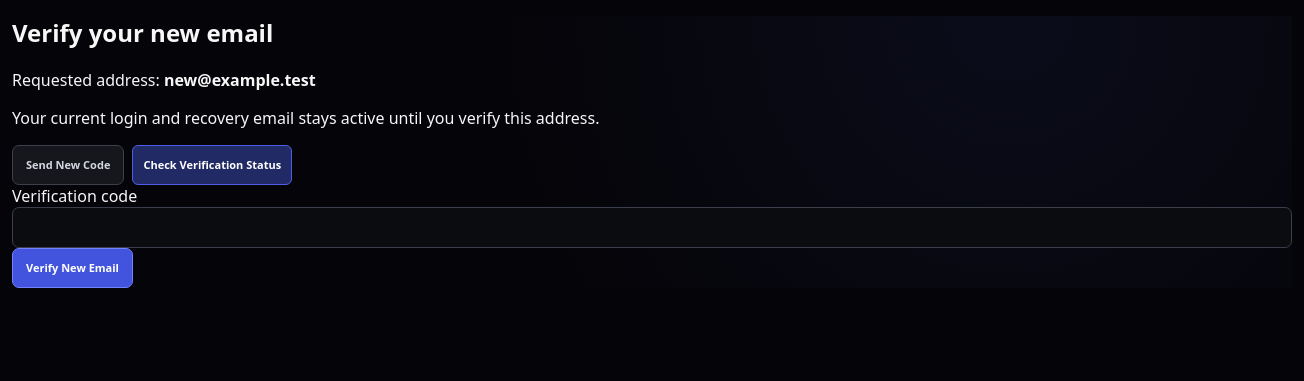
Test: requires explicit status reconciliation after an uncertain verification
This screenshot has width=1304, height=381.
In the field named "Email verification code": {"x": 652, "y": 227} [12,207,1292,248], type "123456"
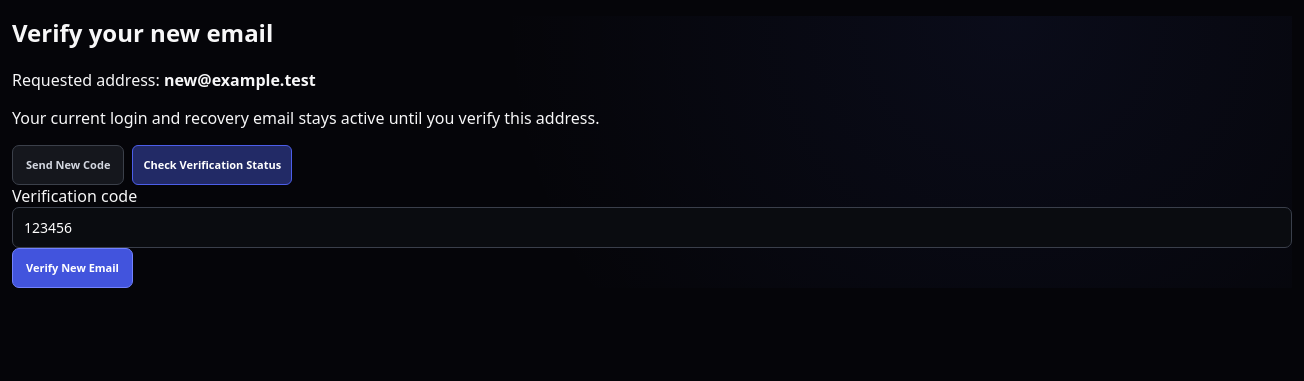
Click the button "Verify New Email": {"x": 72, "y": 268} [12,248,133,288]
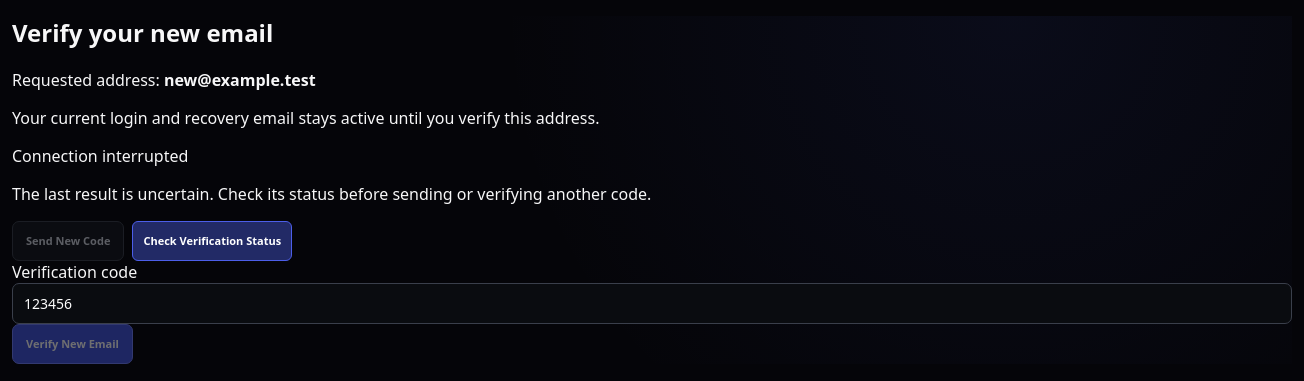
Check: the text "Connection interrupted" is shown, box [12,145,188,167]
Check: the button "Verify New Email" is disabled, box [12,324,133,364]
Check: the button "Send New Code" is disabled, box [12,221,124,261]
Click the button "Check Verification Status": {"x": 212, "y": 241} [132,221,292,261]
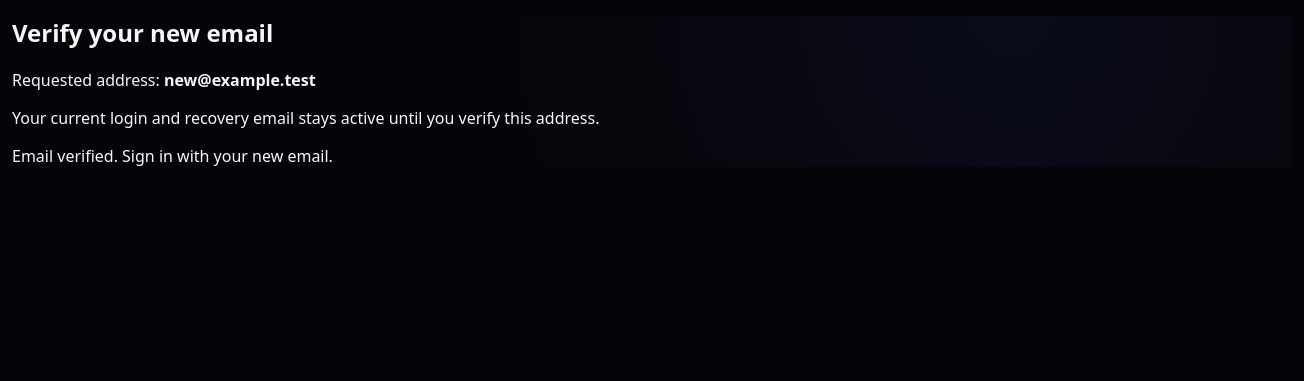
Check: the text "Email verified. Sign in with your new email." is shown, box [12,145,333,167]
